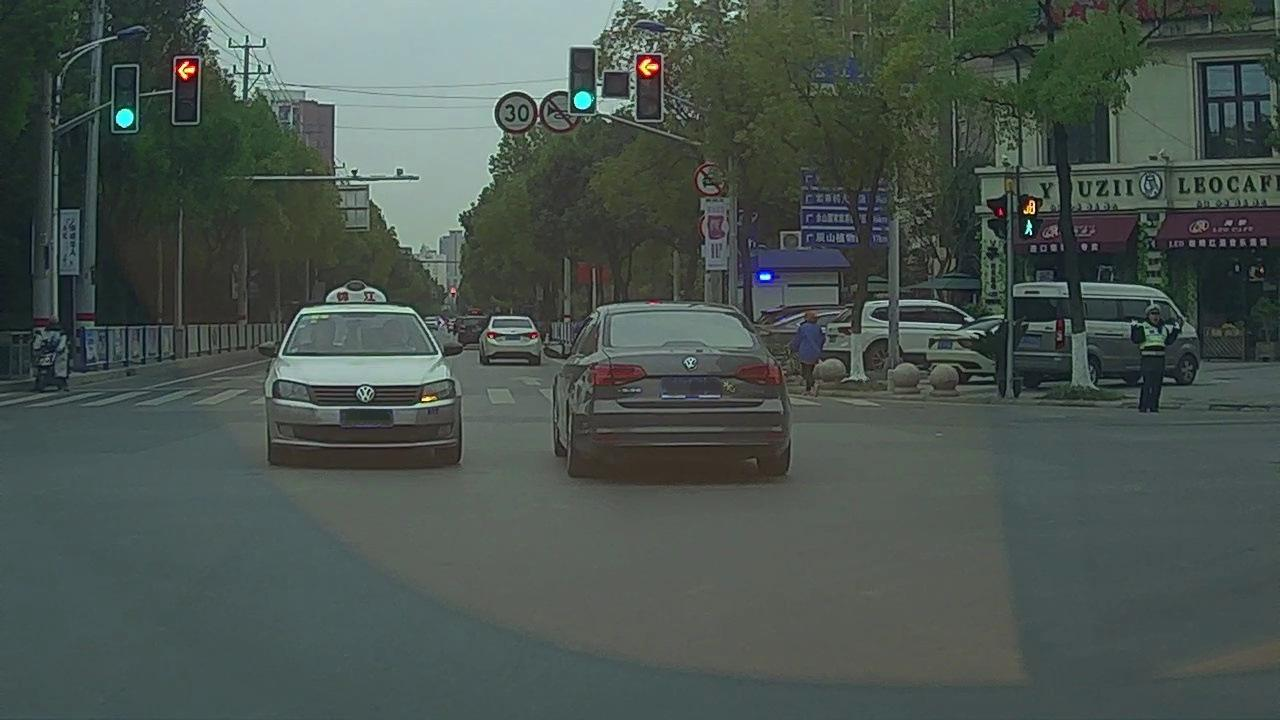traffic_light: (634, 53, 664, 124), (174, 59, 200, 124), (569, 50, 595, 114), (114, 66, 136, 131)
